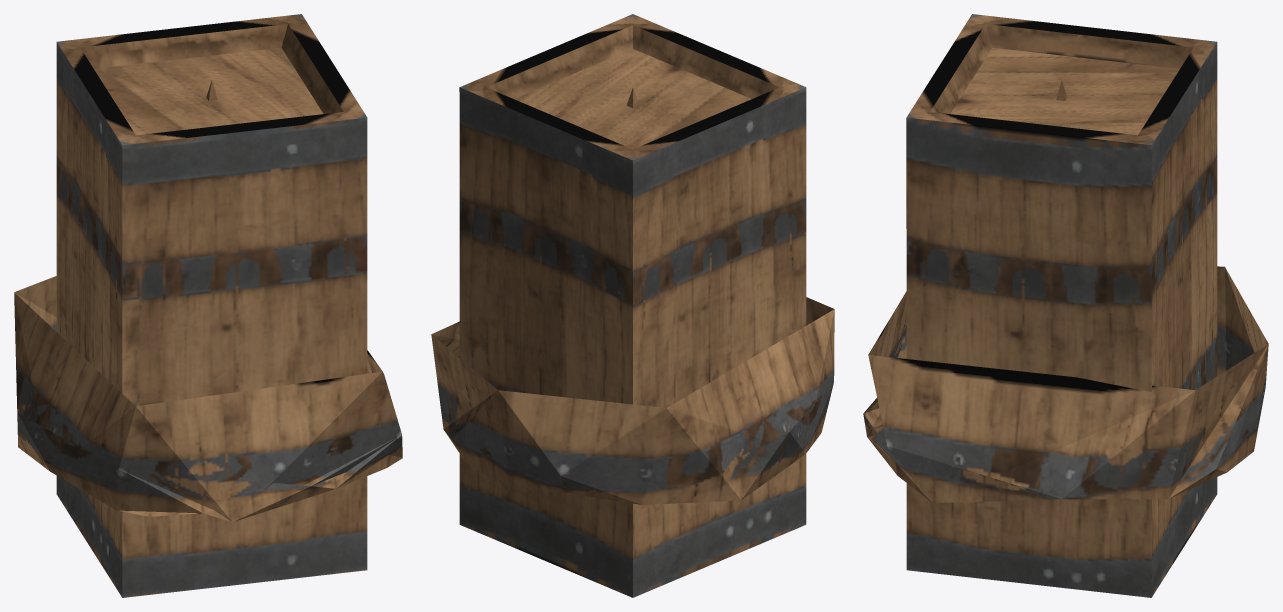
The model's file is barrel_lod2.glb.
3 views of the same model, side by side, from view 1: azimuth 30°, elevation 25°; view 2: azimuth 150°, elevation 25°; view 3: azimuth 270°, elevation 25° (orthographic). The views are drawn at different scales.
Parts seen in each view (by area): view 1: geometry_0; view 2: geometry_0; view 3: geometry_0.
Boxes of the visible parts, bbox=[...] form: geometry_0: bbox=[14, 14, 402, 597]; geometry_0: bbox=[431, 14, 834, 597]; geometry_0: bbox=[863, 14, 1268, 597].
Size of the model in its own units: 0.8616 by 1.06 by 0.8641.
Materials: 1 (1 with a texture image).
